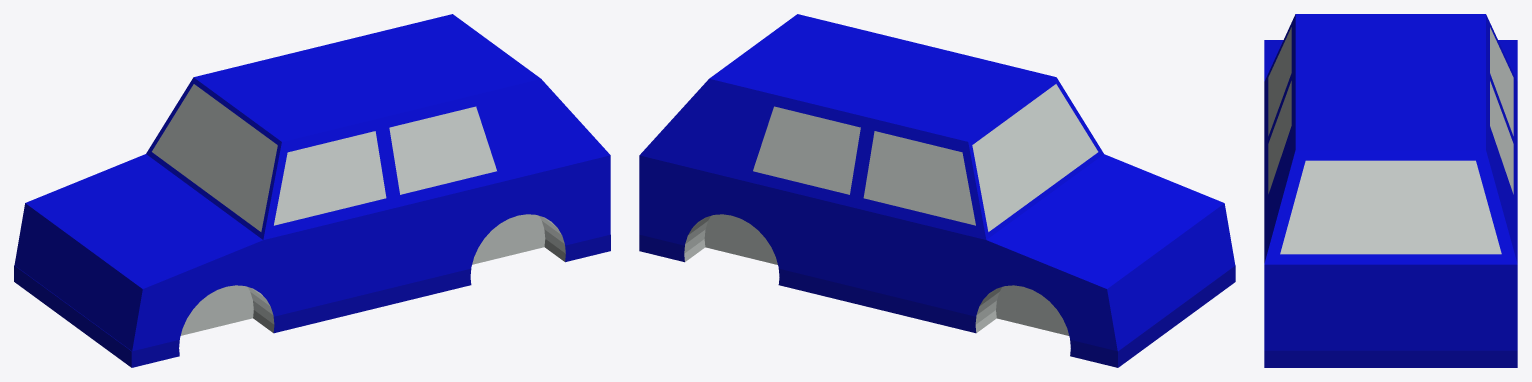
Rendered from car.fbx.
3 views of the same model, side by side, from view 1: azimuth 30°, elevation 25°; view 2: azimuth 150°, elevation 25°; view 3: azimuth 270°, elevation 25° (orthographic). The views are drawn at different scales.
Visible parts, largest first — view 1: Car; view 2: Car; view 3: Car.
Boxes of the visible parts, x1,y1,x2,y2 form: Car: [14, 14, 610, 367]; Car: [639, 14, 1235, 367]; Car: [1264, 14, 1517, 367].
Size of the model in its own units: 402 by 141 by 171.
